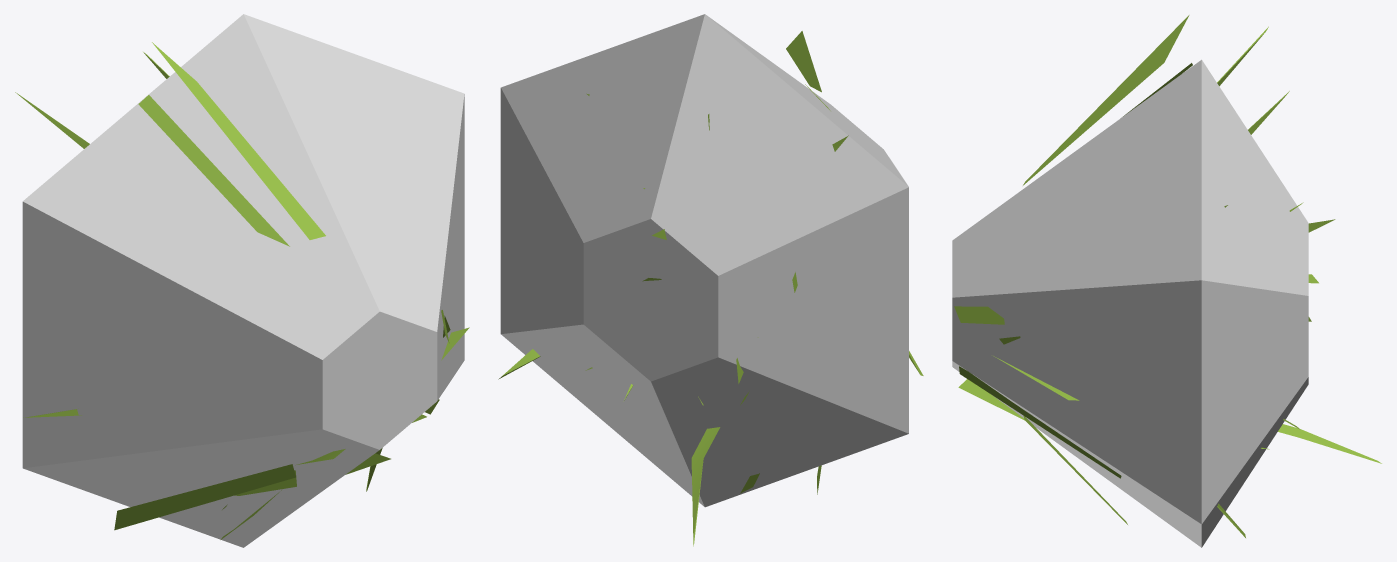
Rendered from green_grass.fbx.
3 views of the same model, side by side, from view 1: azimuth 30°, elevation 25°; view 2: azimuth 150°, elevation 25°; view 3: azimuth 270°, elevation 25° (orthographic). The views are drawn at different scales.
Parts seen in each view (by area): view 1: c_green_grass, green_grass; view 2: c_green_grass, green_grass; view 3: c_green_grass, green_grass.
Part boxes in pixels (x1,y1,x2,y2): c_green_grass: (22,14,464,547); green_grass: (15,42,469,539); c_green_grass: (500,14,908,507); green_grass: (498,31,923,546); c_green_grass: (952,59,1308,547); green_grass: (954,15,1381,537).
Size of the model in its own units: 65.22 by 74.22 by 59.05.
